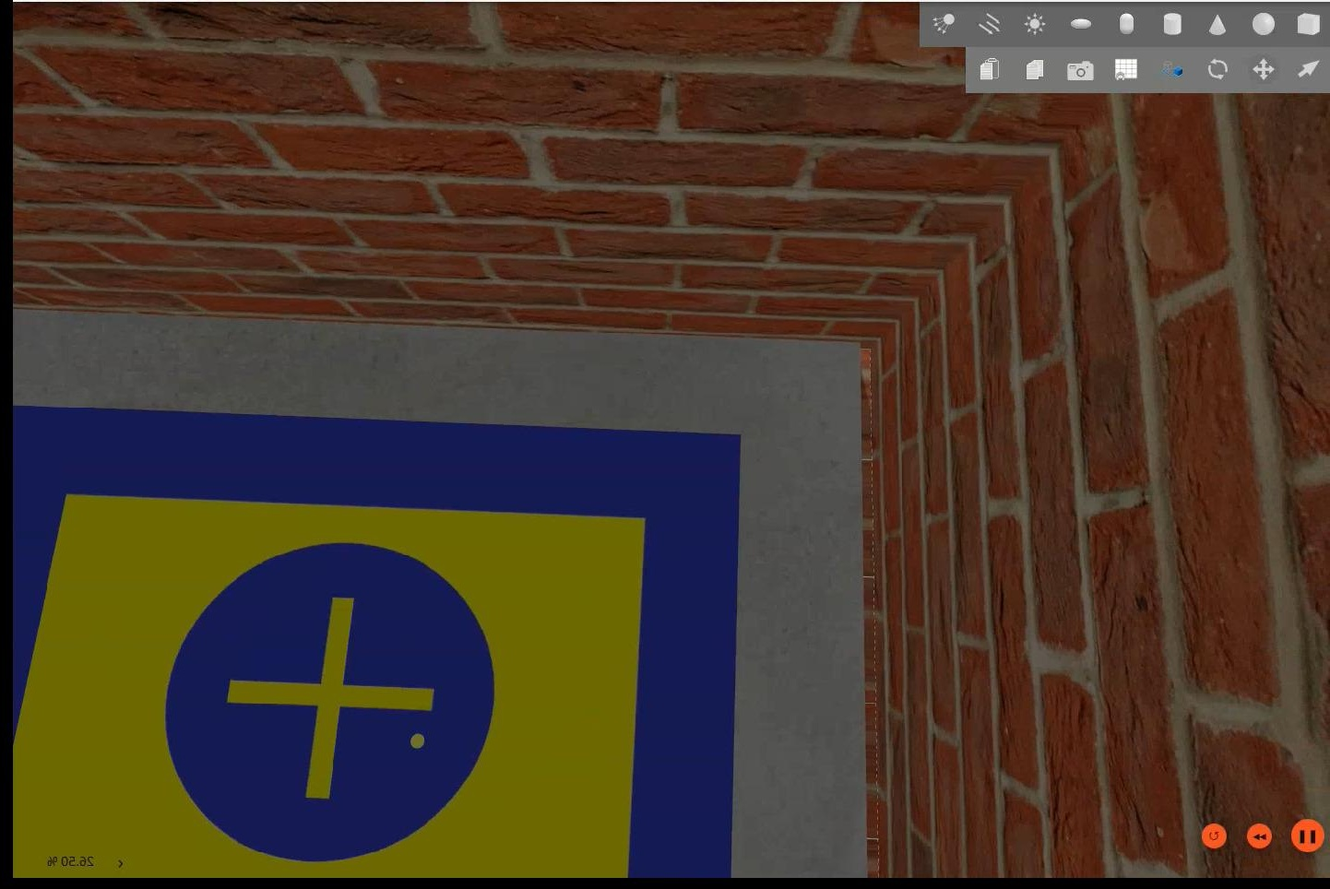large_base: (10, 409, 742, 883)
